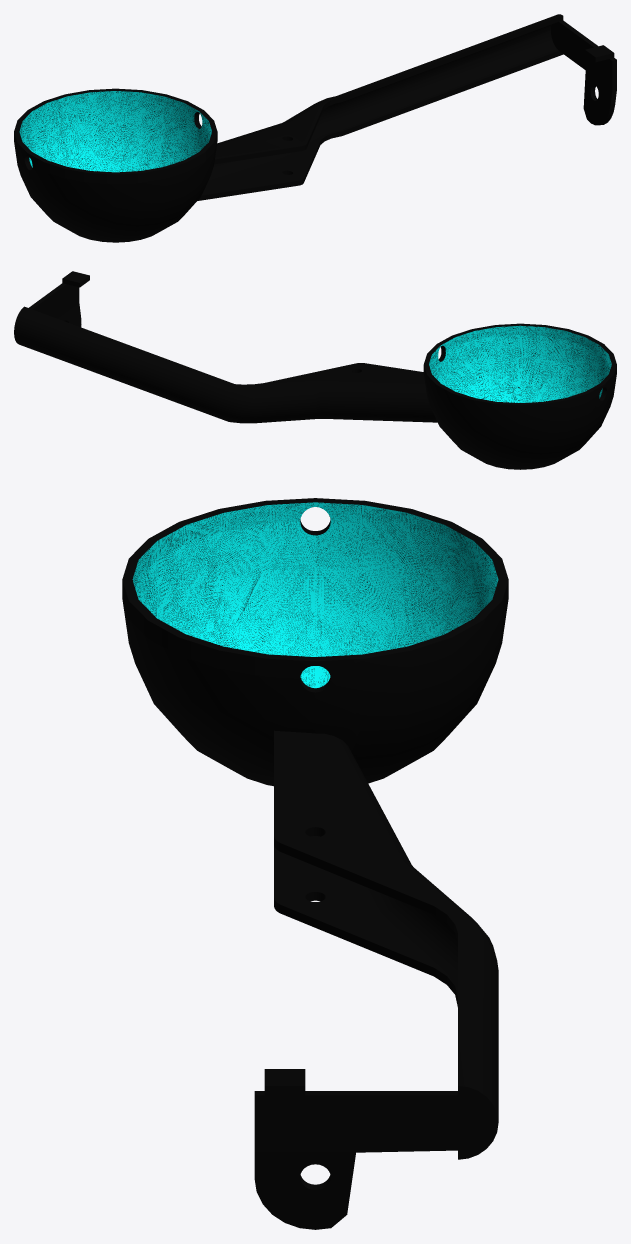
The model's file is scoop_02_origin_gt_3.dae.
3 views of the same model, one above another, from view 1: azimuth 30°, elevation 25°; view 2: azimuth 150°, elevation 25°; view 3: azimuth 270°, elevation 25° (orthographic). The views are drawn at different scales.
Parts seen in each view (by area): view 1: Scoop_and_Arm (×2); view 2: Scoop_and_Arm (×2); view 3: Scoop_and_Arm (×2).
Part boxes in pixels (left/top/right/bottom): Scoop_and_Arm (×2): left=14, top=14, right=616, bottom=242; Scoop_and_Arm (×2): left=14, top=271, right=616, bottom=469; Scoop_and_Arm (×2): left=122, top=498, right=508, bottom=1229.
Size of the model in its own units: 7.73 by 2.38 by 1.39.
